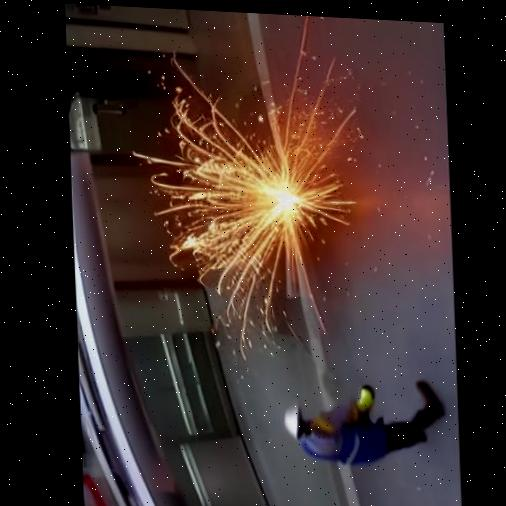fire: (101, 51, 455, 350)
